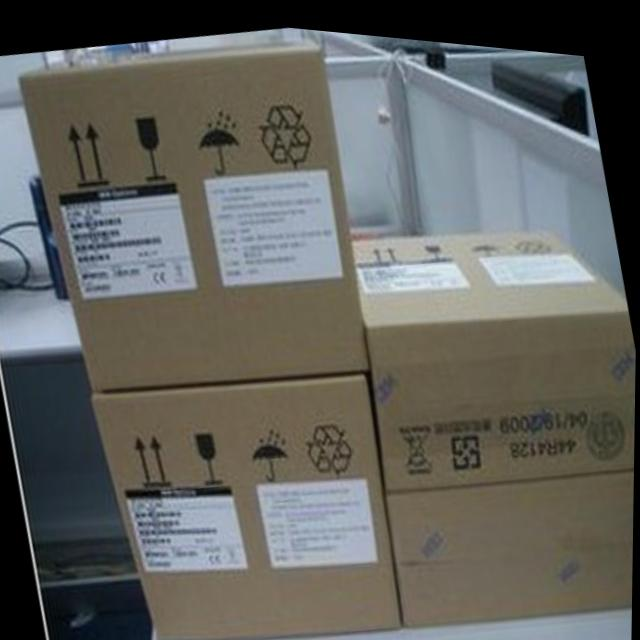box: (18, 27, 372, 391), (353, 215, 637, 620), (93, 365, 404, 640)
